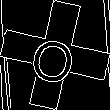O_N: (28, 25, 82, 85)
